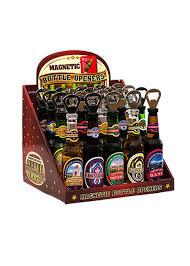Glass bottle: (8, 44, 184, 206)
